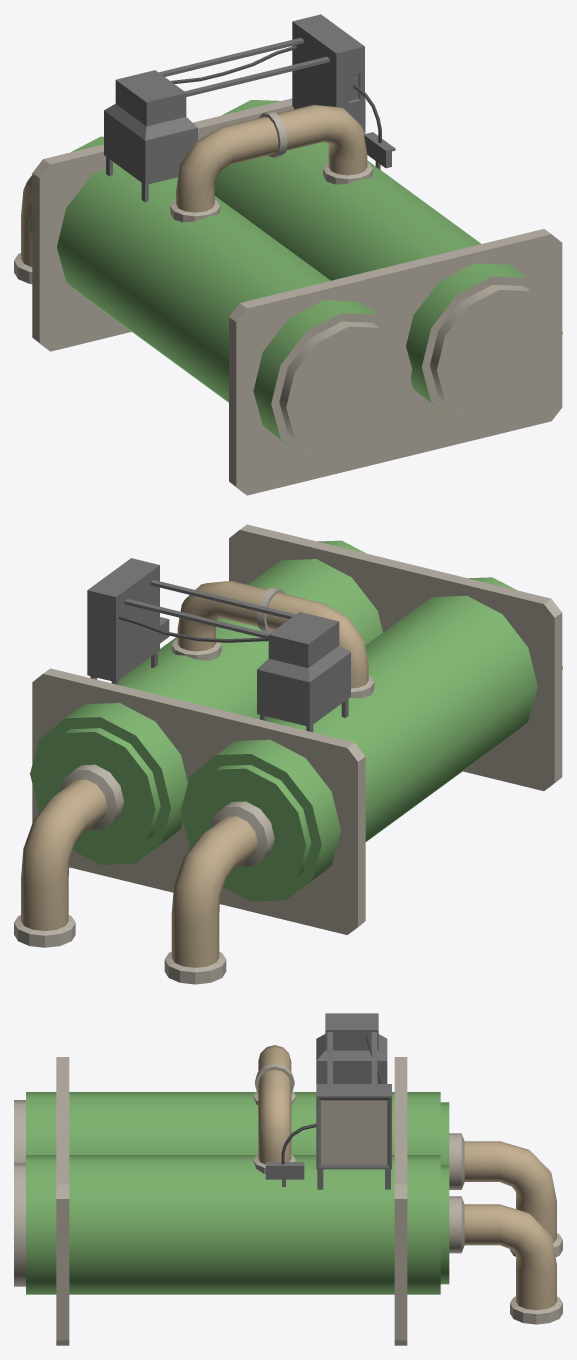
The model's file is SM_Machine_01.fbx.
3 renders of one model, top to bottom at view 1: azimuth 30°, elevation 25°; view 2: azimuth 150°, elevation 25°; view 3: azimuth 270°, elevation 25°, orthographic. The views are drawn at different scales.
Parts seen in each view (by area): view 1: SM_Machine_01; view 2: SM_Machine_01; view 3: SM_Machine_01.
Part boxes in pixels (x1,y1,x2,y2): SM_Machine_01: (14,14,562,495); SM_Machine_01: (14,524,562,984); SM_Machine_01: (14,1013,562,1345).
Size of the model in its own units: 261 by 209 by 443.
